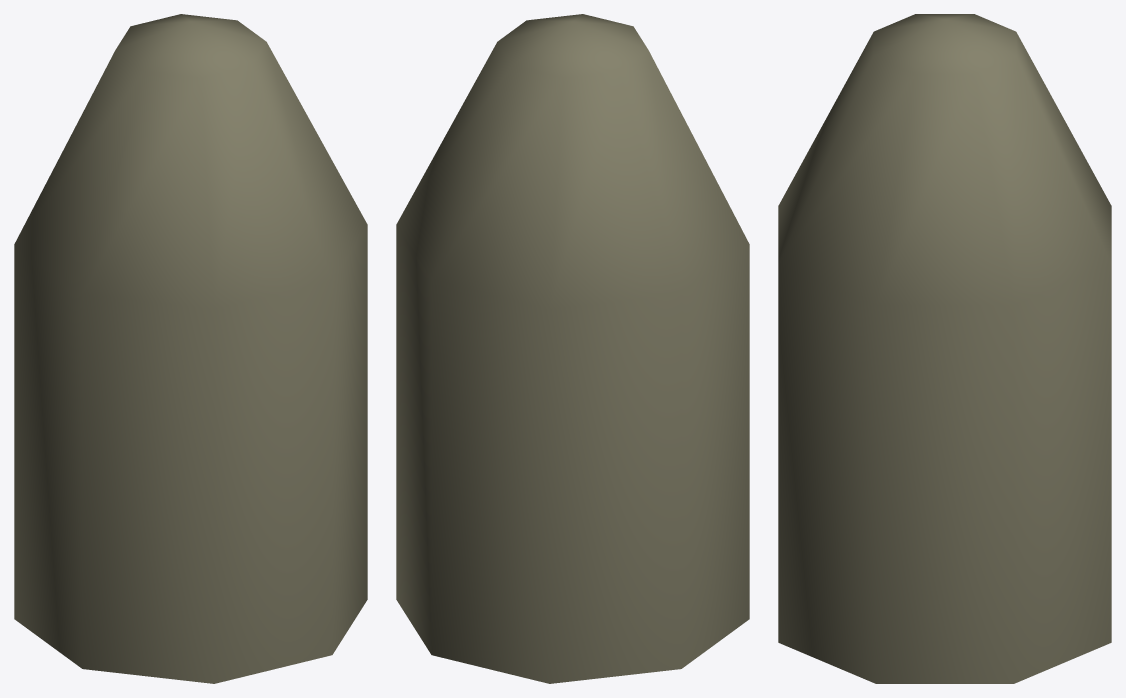
File: Shell.fbx
3 views of the same model, side by side, from view 1: azimuth 30°, elevation 25°; view 2: azimuth 150°, elevation 25°; view 3: azimuth 270°, elevation 25° (orthographic).
Parts seen in each view (by area): view 1: Props_Shell; view 2: Props_Shell; view 3: Props_Shell.
Part boxes in pixels (x1,y1,x2,y2): Props_Shell: (14, 14, 367, 683); Props_Shell: (396, 14, 749, 683); Props_Shell: (778, 14, 1111, 683).
Bounding box in the file's own units: 1.27 × 2.5 × 1.27.
